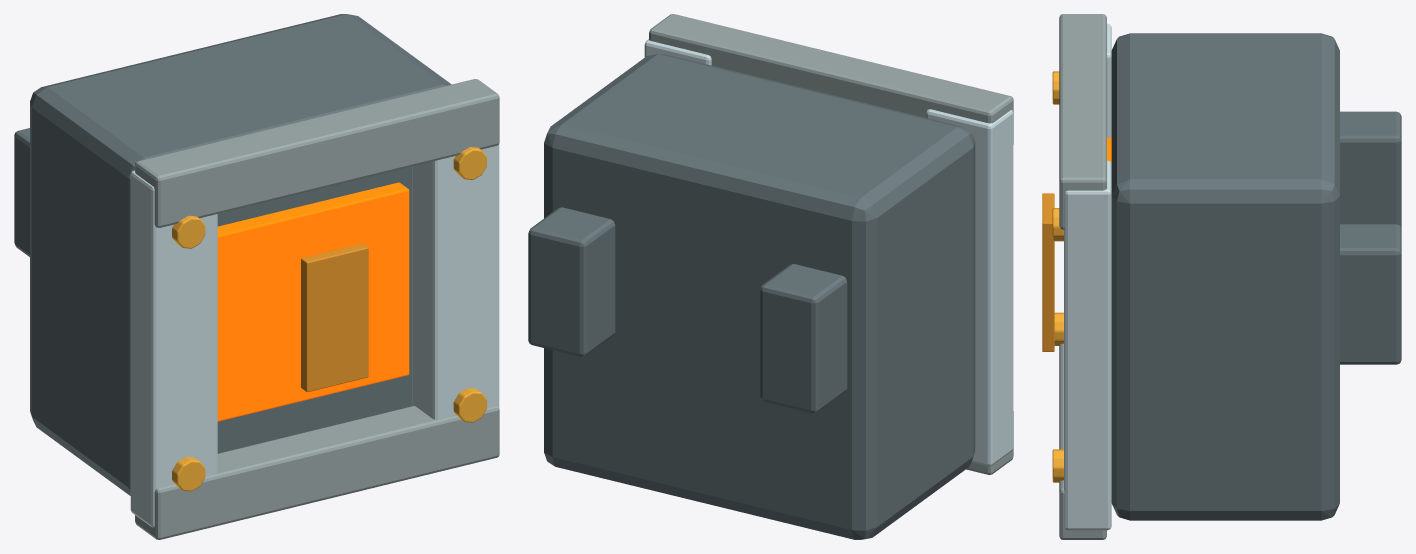
Rendered from breach_bomb.glb.
The picture shows the model from 3 angles, left to right: view 1: azimuth 30°, elevation 25°; view 2: azimuth 150°, elevation 25°; view 3: azimuth 270°, elevation 25°; orthographic projection.
Visible parts, largest first — view 1: breach_charge_core, fuel_heart, horizontal_binder_0.8, side_armor_-0.34, horizontal_binder_0.08, side_armor_0.34, front_direction_plate, wall_mount_hook_-0.28, armor_rivet_0.34_0.16, armor_rivet_-0.34_0.16, armor_rivet_-0.34_0.72, armor_rivet_0.34_0.72; view 2: breach_charge_core, side_armor_-0.34, horizontal_binder_0.8, wall_mount_hook_-0.28, wall_mount_hook_0.28, side_armor_0.34; view 3: breach_charge_core, side_armor_0.34, wall_mount_hook_0.28, horizontal_binder_0.8, wall_mount_hook_-0.28, front_direction_plate, horizontal_binder_0.08, side_armor_-0.34.
Part boxes in pixels (left/top/right/bottom): breach_charge_core: left=30, top=14, right=451, bottom=495; fuel_heart: left=217, top=182, right=409, bottom=421; horizontal_binder_0.8: left=135, top=79, right=499, bottom=227; side_armor_-0.34: left=130, top=170, right=217, bottom=527; horizontal_binder_0.08: left=135, top=405, right=499, bottom=539; side_armor_0.34: left=412, top=144, right=499, bottom=419; front_direction_plate: left=301, top=243, right=368, bottom=392; wall_mount_hook_-0.28: left=14, top=128, right=29, bottom=256; armor_rivet_0.34_0.16: left=453, top=388, right=486, bottom=422; armor_rivet_-0.34_0.16: left=172, top=457, right=205, bottom=491; armor_rivet_-0.34_0.72: left=172, top=215, right=205, bottom=248; armor_rivet_0.34_0.72: left=453, top=147, right=486, bottom=179; breach_charge_core: left=544, top=54, right=975, bottom=539; side_armor_-0.34: left=926, top=109, right=1013, bottom=466; horizontal_binder_0.8: left=649, top=14, right=1013, bottom=144; wall_mount_hook_-0.28: left=760, top=264, right=847, bottom=413; wall_mount_hook_0.28: left=528, top=207, right=615, bottom=356; side_armor_0.34: left=644, top=39, right=711, bottom=65; breach_charge_core: left=1111, top=33, right=1339, bottom=520; side_armor_0.34: left=1064, top=160, right=1111, bottom=530; wall_mount_hook_0.28: left=1340, top=224, right=1401, bottom=364; horizontal_binder_0.8: left=1059, top=14, right=1106, bottom=229; wall_mount_hook_-0.28: left=1340, top=111, right=1401, bottom=228; front_direction_plate: left=1042, top=193, right=1054, bottom=351; horizontal_binder_0.08: left=1059, top=343, right=1106, bottom=539; side_armor_-0.34: left=1107, top=23, right=1111, bottom=137.
Size of the model in its own units: 0.84 by 0.84 by 0.756.
